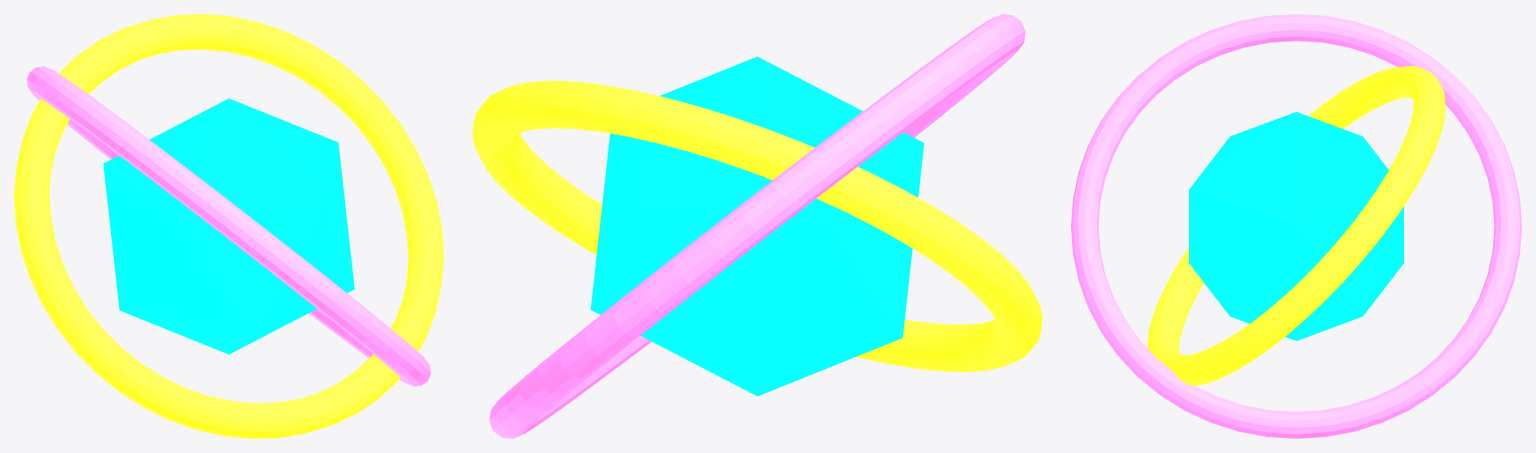
The model's file is item_kart.glb.
The picture shows the model from 3 angles, left to right: view 1: azimuth 30°, elevation 25°; view 2: azimuth 150°, elevation 25°; view 3: azimuth 270°, elevation 25°; orthographic projection. The views are drawn at different scales.
Parts seen in each view (by area): view 1: Torus, Icosphere, Torus.001; view 2: Icosphere, Torus, Torus.001; view 3: Torus.001, Icosphere, Torus.
Boxes of the visible parts, x1,y1,x2,y2 form: Torus: (14, 14, 443, 438); Icosphere: (103, 98, 354, 354); Torus.001: (27, 66, 430, 386); Icosphere: (590, 56, 924, 396); Torus: (472, 80, 1042, 372); Torus.001: (489, 14, 1025, 438); Torus.001: (1071, 14, 1521, 438); Icosphere: (1189, 112, 1403, 340); Torus: (1147, 66, 1445, 385).
Size of the model in its own units: 1.78 by 1.42 by 1.96.
